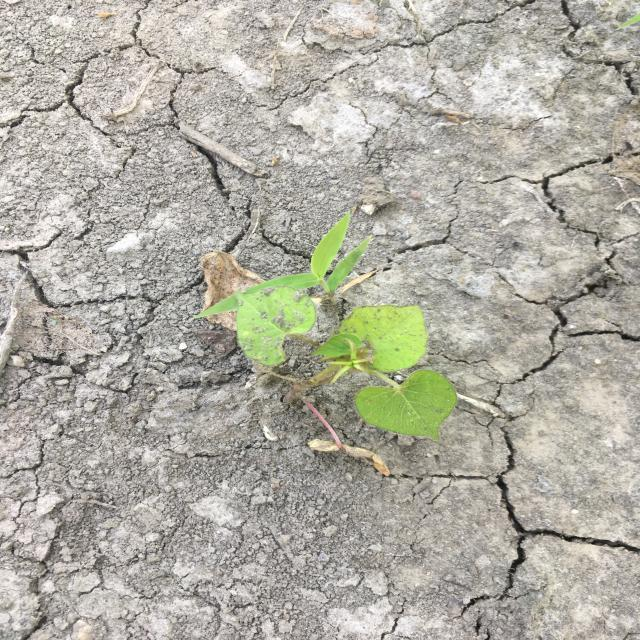MorningGlory: (232, 285, 458, 477)
